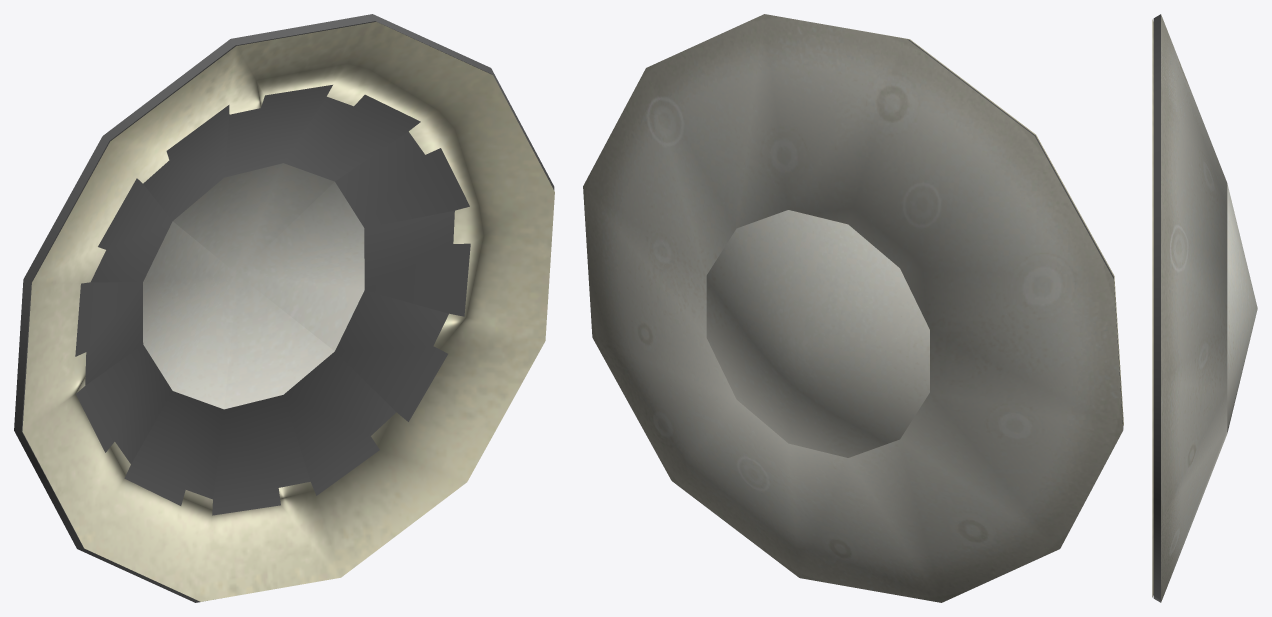
File: nt_2020_kitchen_light_01_LOD3.obj
3 renders of one model, left to right at view 1: azimuth 30°, elevation 25°; view 2: azimuth 150°, elevation 25°; view 3: azimuth 270°, elevation 25°, orthographic. The views are drawn at different scales.
Visible parts, largest first — view 1: glass_frosted_lit, nt_2020_metal_chrome, mtl_nt_2020_kitchen_light_glass; view 2: mtl_nt_2020_kitchen_light_glass, glass_frosted_lit; view 3: mtl_nt_2020_kitchen_light_glass, nt_2020_metal_chrome, glass_frosted_lit.
Boxes of the visible parts, x1,y1,x2,y2 form: glass_frosted_lit: (22, 21, 554, 601); nt_2020_metal_chrome: (14, 14, 554, 602); mtl_nt_2020_kitchen_light_glass: (143, 163, 364, 409); mtl_nt_2020_kitchen_light_glass: (583, 14, 1123, 602); glass_frosted_lit: (832, 25, 1123, 425); mtl_nt_2020_kitchen_light_glass: (1161, 14, 1257, 602); nt_2020_metal_chrome: (1153, 14, 1160, 602); glass_frosted_lit: (1152, 19, 1153, 597).
Bounding box in the file's own units: 401 × 401 × 71.16.
